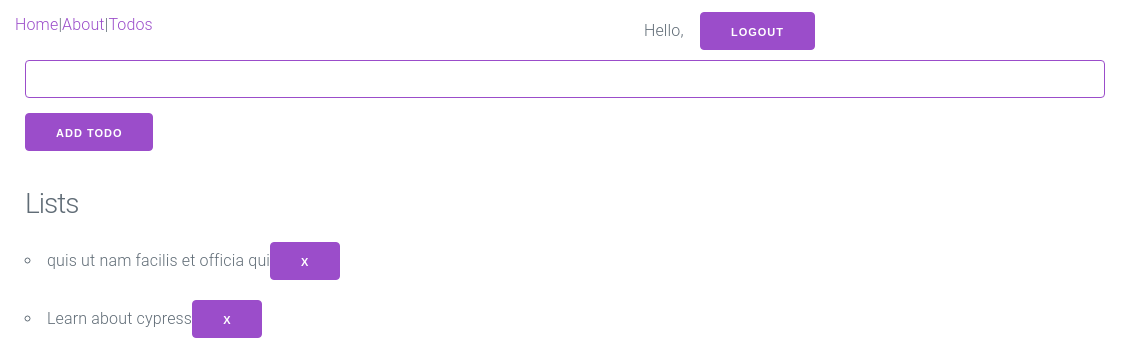
it: Todo › deletes all todo
Click the button with class "btn-danger" next to "quis ut nam facilis et officia qui" at (305, 261), box top-left (270, 242), bottom-right (340, 280)
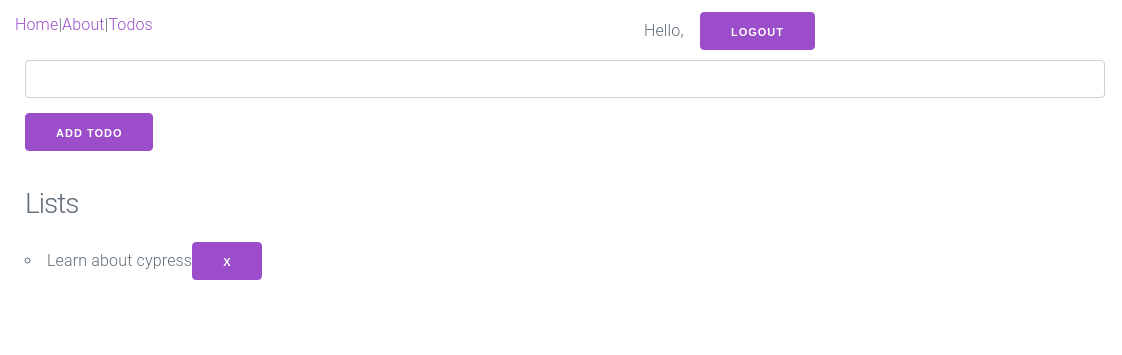
Click the button with class "btn-danger" at (227, 261), box top-left (192, 242), bottom-right (262, 280)
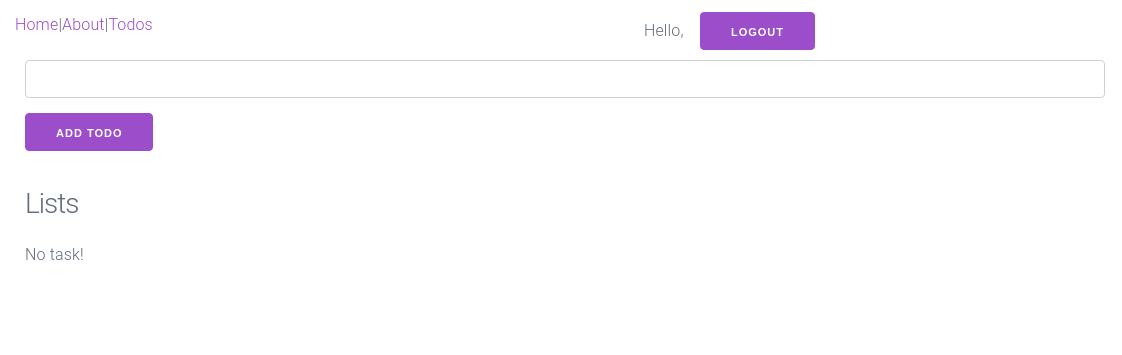
Expected: the text with class "no-task" reads "No task!", top-left (25, 245), bottom-right (84, 264)
